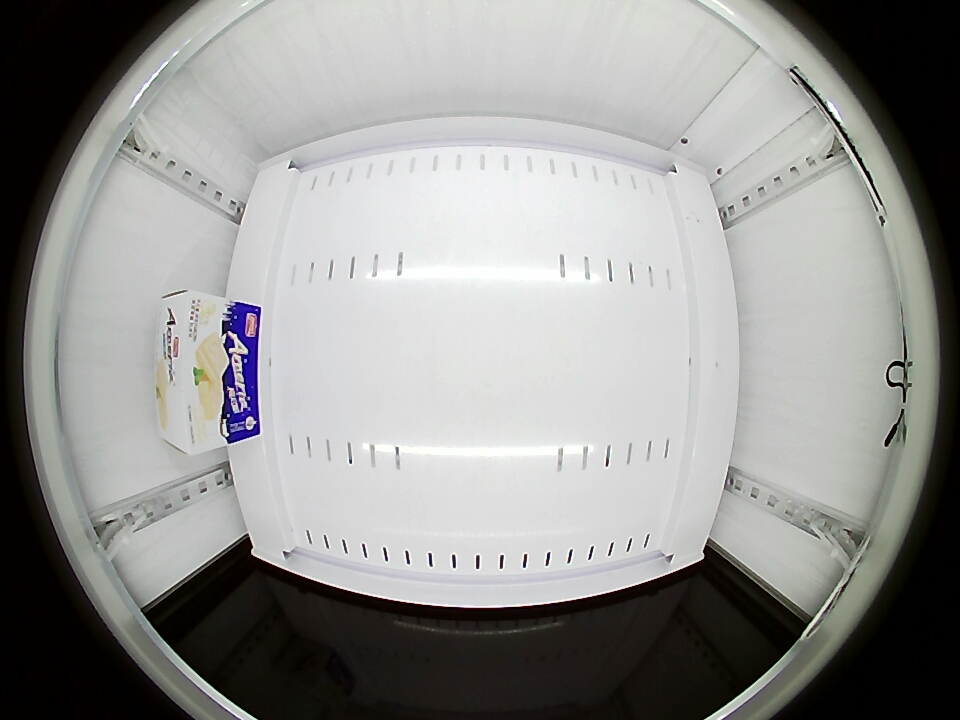meiniye: (156, 290, 243, 456)
